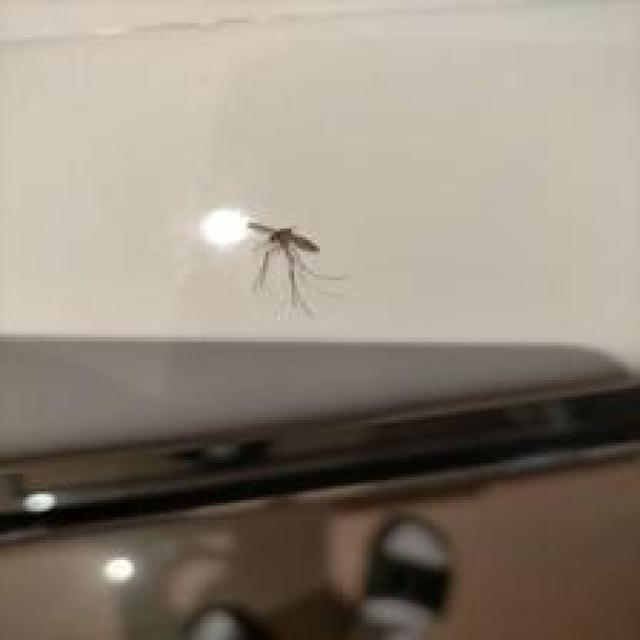Culex: (243, 218, 346, 318)
